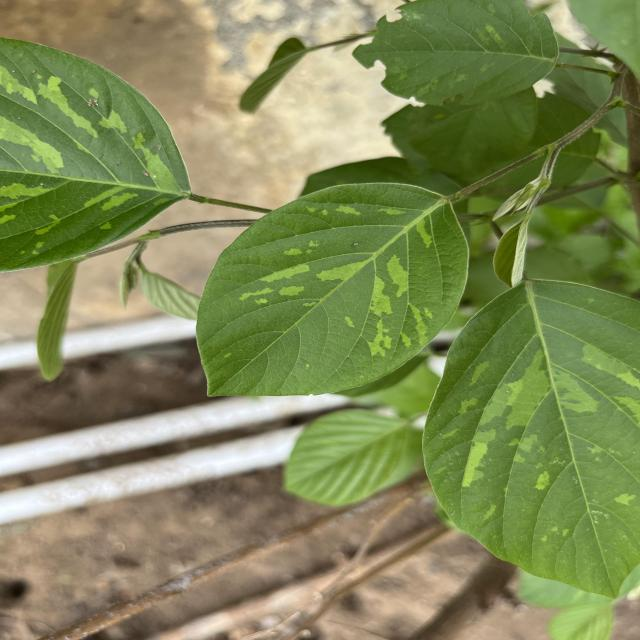Desmodium gangeticum: (418, 274, 640, 604), (192, 178, 474, 400)
